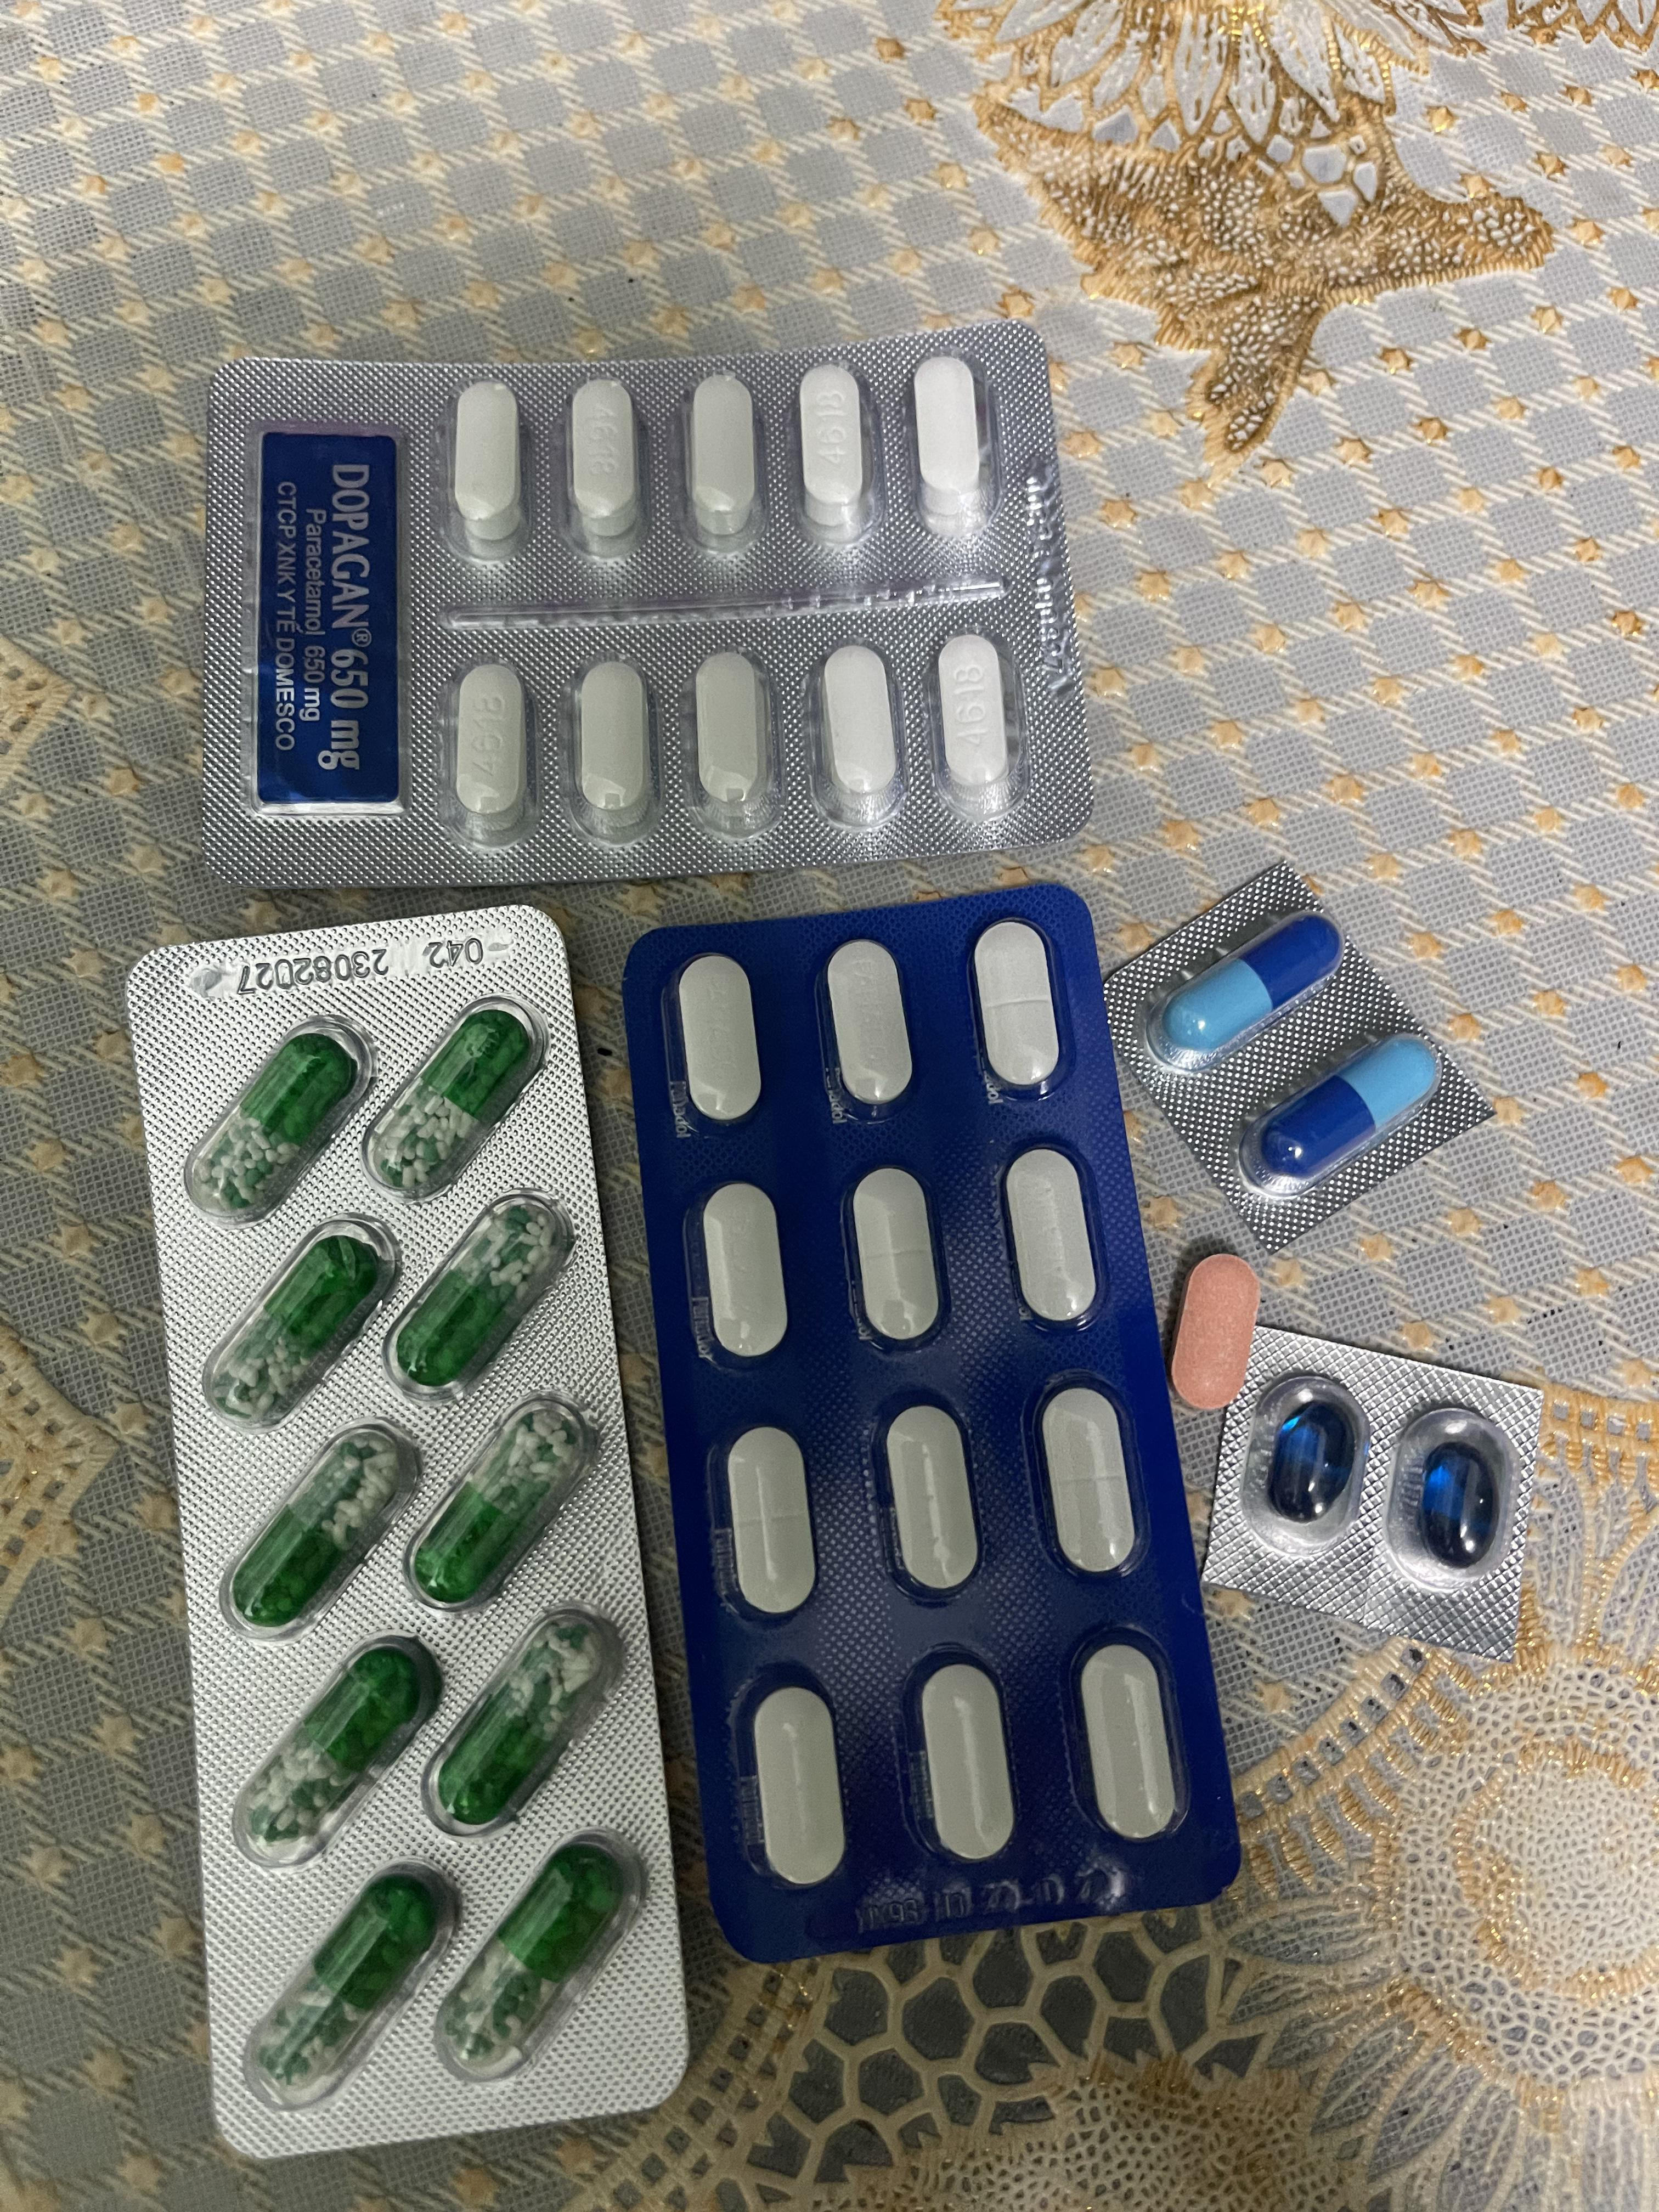Lincomyxin_500mg: (1269, 1400, 1356, 1523), (1419, 1443, 1497, 1568)
Loratadine_10mg: (1170, 1251, 1260, 1406)
Paracetamol_350mg: (731, 1665, 851, 1897), (1069, 1628, 1186, 1850), (1029, 1373, 1146, 1585), (913, 1658, 1018, 1867), (720, 1425, 818, 1623), (883, 1403, 980, 1600), (843, 1166, 947, 1348), (1002, 1149, 1101, 1335), (822, 939, 916, 1115), (699, 1183, 790, 1364), (971, 920, 1063, 1097), (674, 957, 761, 1127)
Paracetamol_500mg: (930, 633, 1027, 822), (566, 655, 660, 844), (913, 355, 989, 535), (568, 377, 645, 551), (695, 652, 772, 821), (686, 374, 758, 546), (452, 379, 524, 550), (822, 646, 898, 807), (797, 363, 868, 534), (453, 663, 527, 825)
Paracetamol_650mg: (215, 1415, 422, 1640), (198, 1216, 402, 1434), (404, 1393, 598, 1616), (443, 1846, 631, 2070), (257, 1874, 442, 2090), (383, 1194, 575, 1402), (183, 1014, 377, 1218), (244, 1642, 427, 1844), (365, 997, 548, 1199), (435, 1631, 595, 1821)
pill: (1254, 1038, 1435, 1187), (1161, 913, 1341, 1060)
